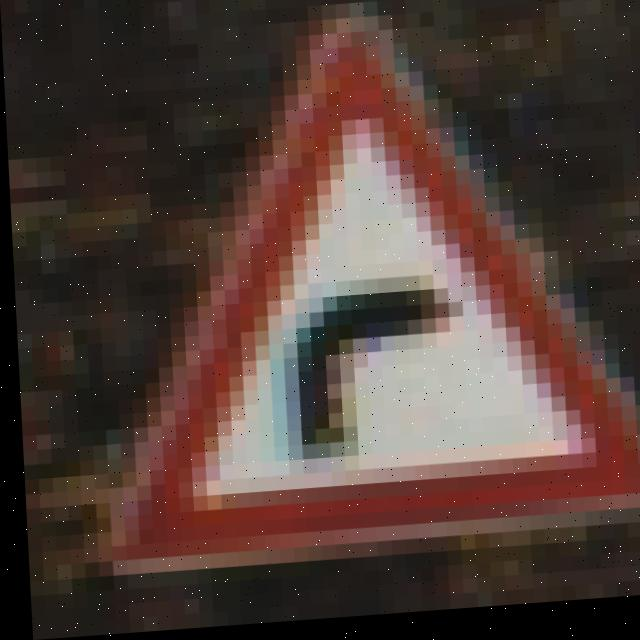right_turn: (114, 11, 640, 603)
